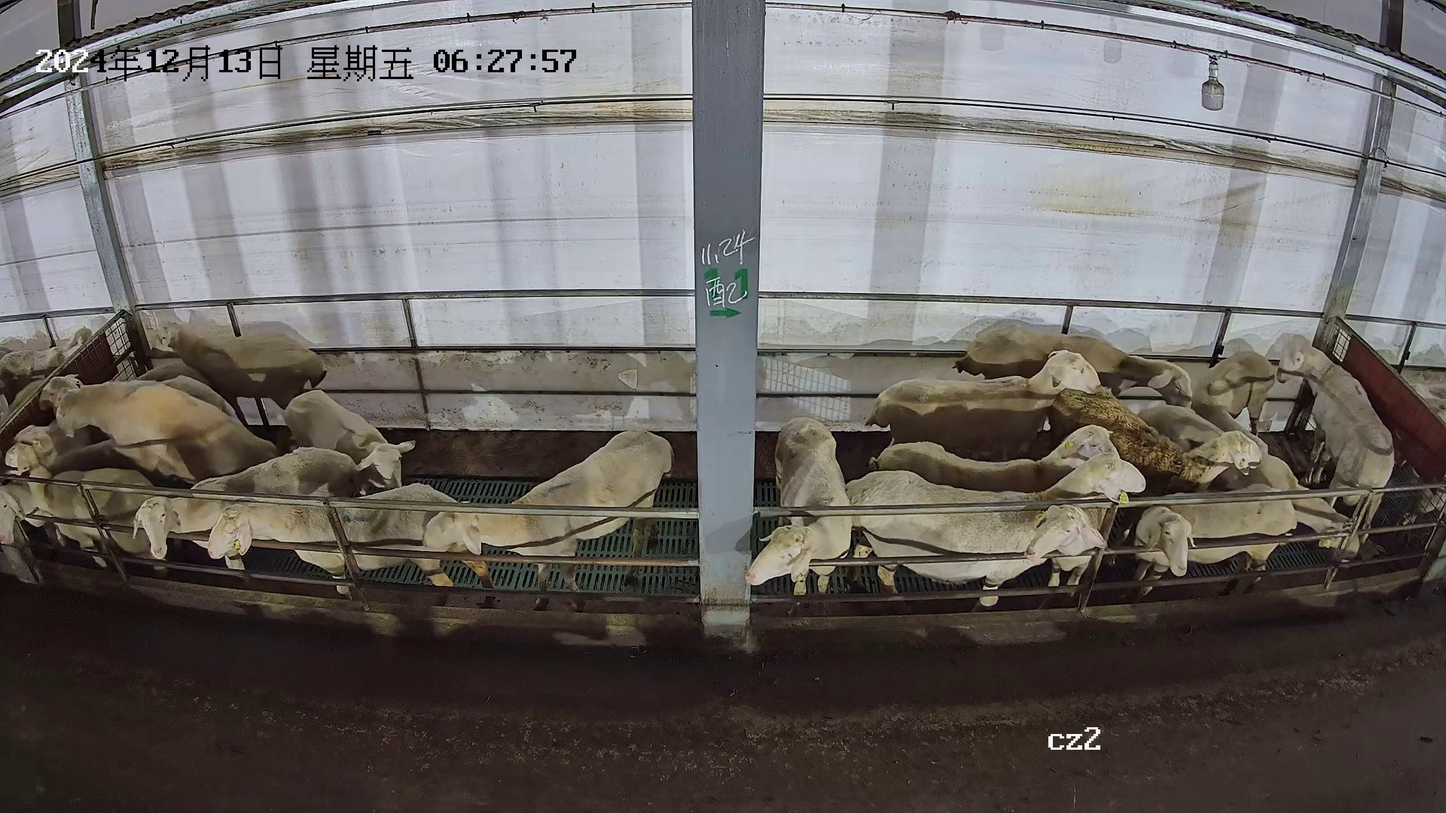Smounting: (4, 377, 282, 485)
mounted: (9, 419, 156, 478)
